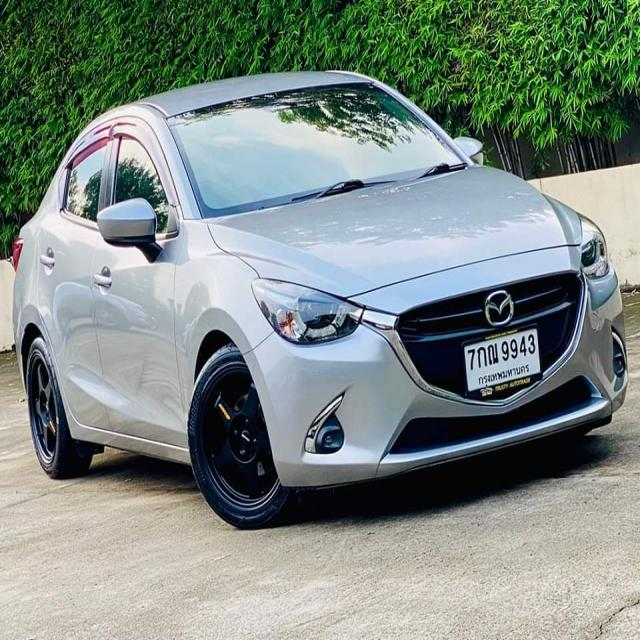license_plate: (458, 322, 549, 404)
